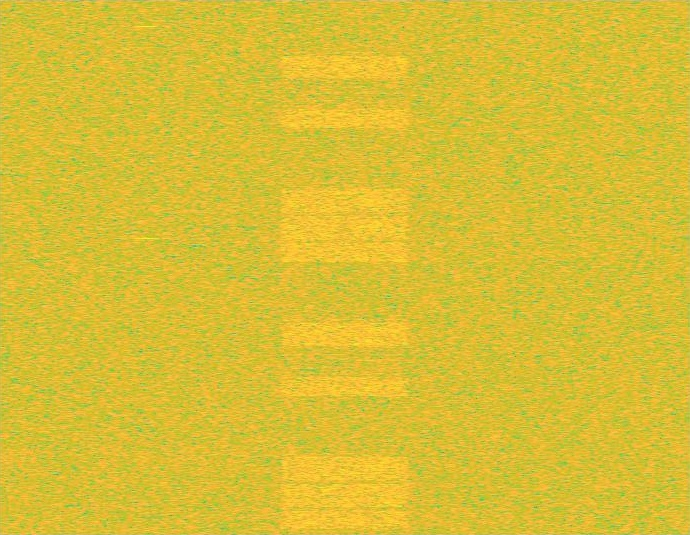LTE: (276, 0, 414, 534)
Radar: (139, 0, 153, 534)
